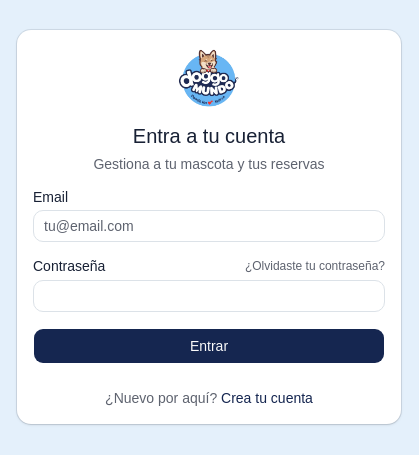
Test: LoginPage — client validation › requires a password
In the field labelled "Email": (209, 226) [33,210,385,242], type "foo@bar.com"
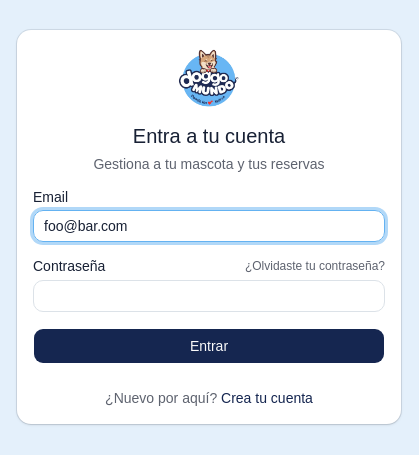
Click the button "Entrar": click(209, 346) [33,328,385,364]
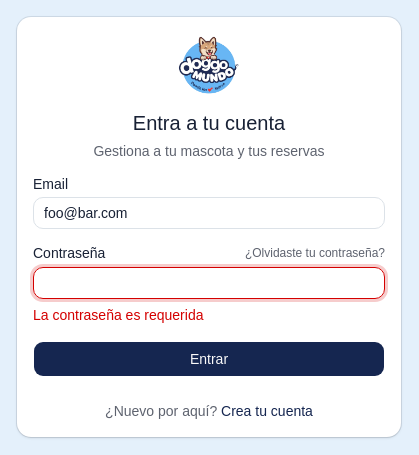
Result: the text "La contraseña es requerida" is shown at [33,307,204,323]
